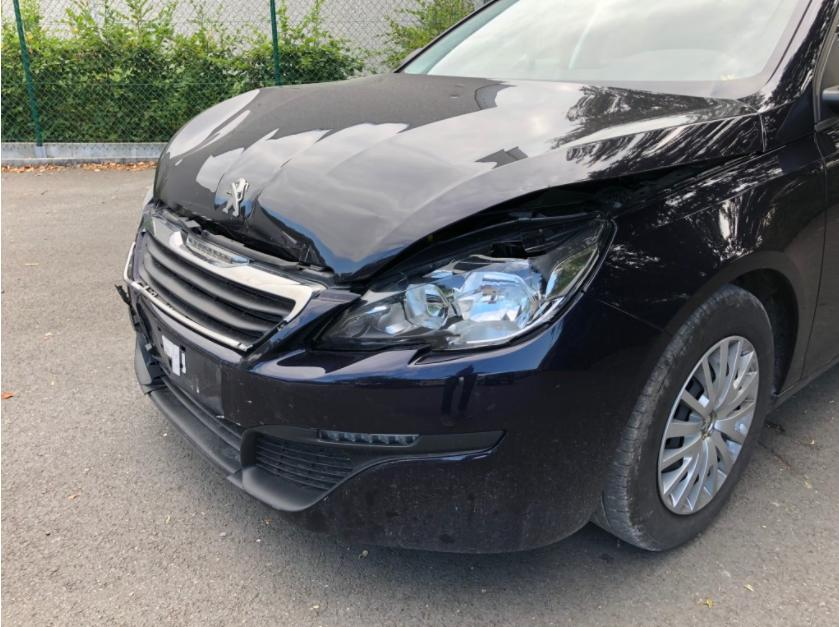Fender: (583, 133, 826, 396)
Front-bumper: (125, 283, 674, 553)
Front-door: (800, 8, 839, 379)
Front-wheel: (589, 282, 774, 551)
Grille: (123, 203, 329, 357)
Headlight: (313, 216, 613, 354)
Hood: (153, 73, 766, 283)
Mirror: (817, 31, 839, 122)
Rocker-panel: (766, 355, 838, 414)
Windshield: (402, 0, 814, 99)
